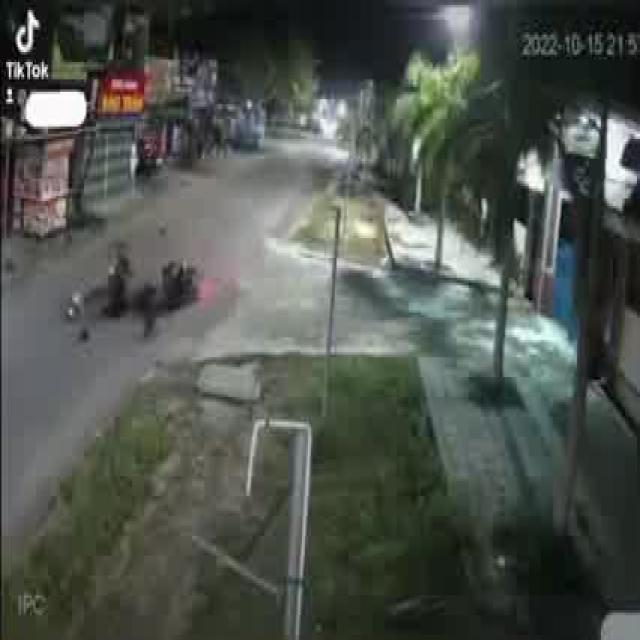multiple_accident: (60, 236, 211, 354)
